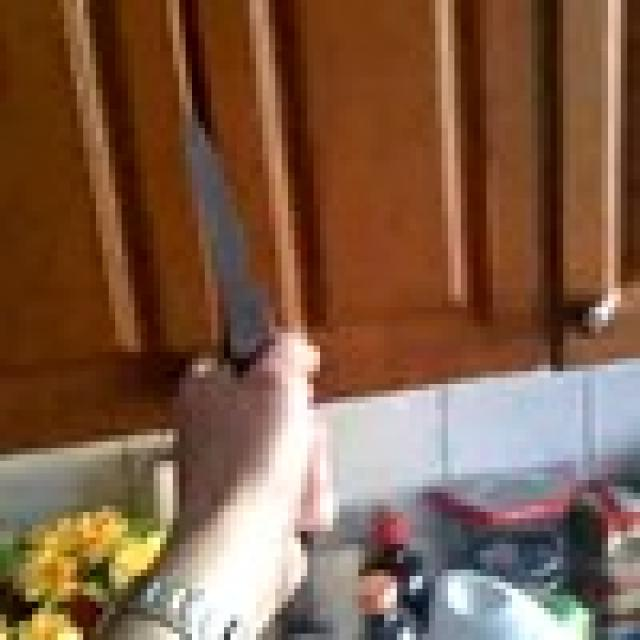Knife: (179, 115, 288, 378)
